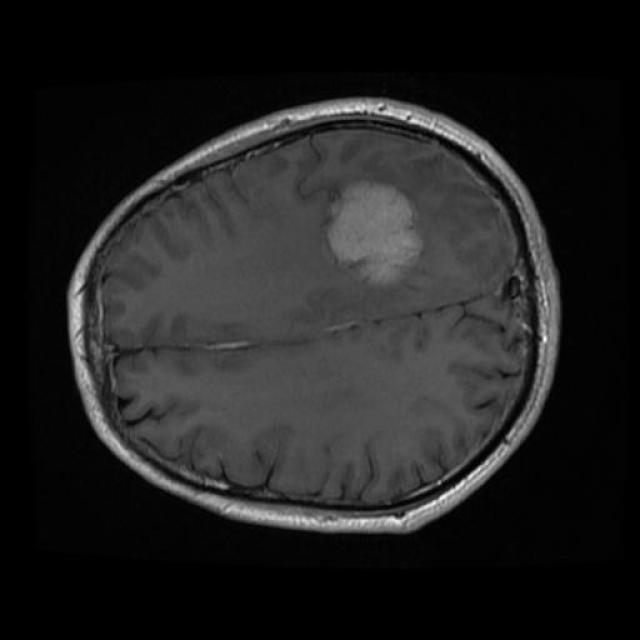Meningioma: (327, 181, 422, 283)
